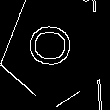O_E: (30, 27, 83, 74)
